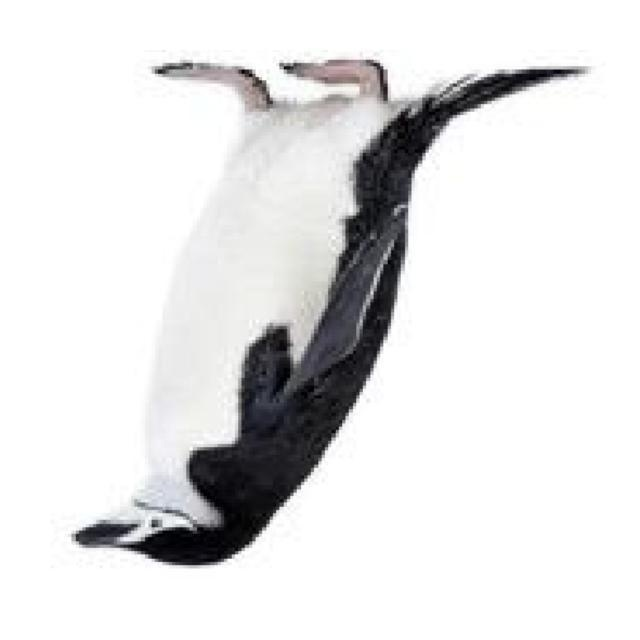penguin: (77, 54, 591, 566)
